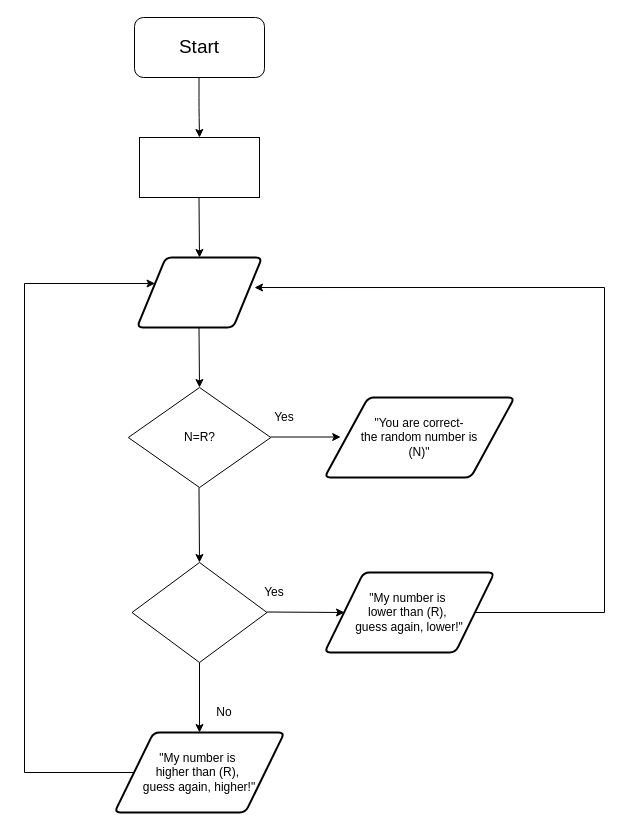
Some shapes in this 630 by 831 pixel diagram are drawn without their labels. Each missing label, with the centre of its shape:
"Input number (N)" belongs at point (199, 292).
"N > R?" belongs at point (199, 612).
"Select random (R) number from 1 to 10" belongs at point (199, 167).
